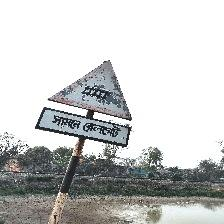Rail-crossing: (36, 60, 133, 147)
